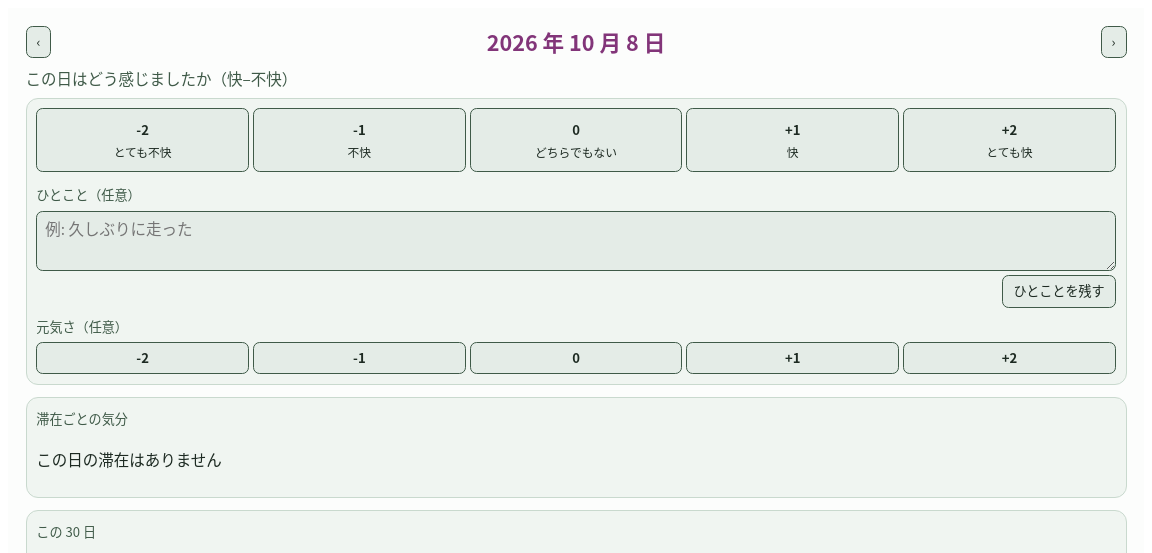
Test: 送れなかったとき › 届かなかった後に「もう一度送る」を押すと、1 回目と同じ原文が送られる
The width and height of the screenshot is (1152, 553).
Click the button with test id "valence-1" at [793, 140], box [686,108,899,172]
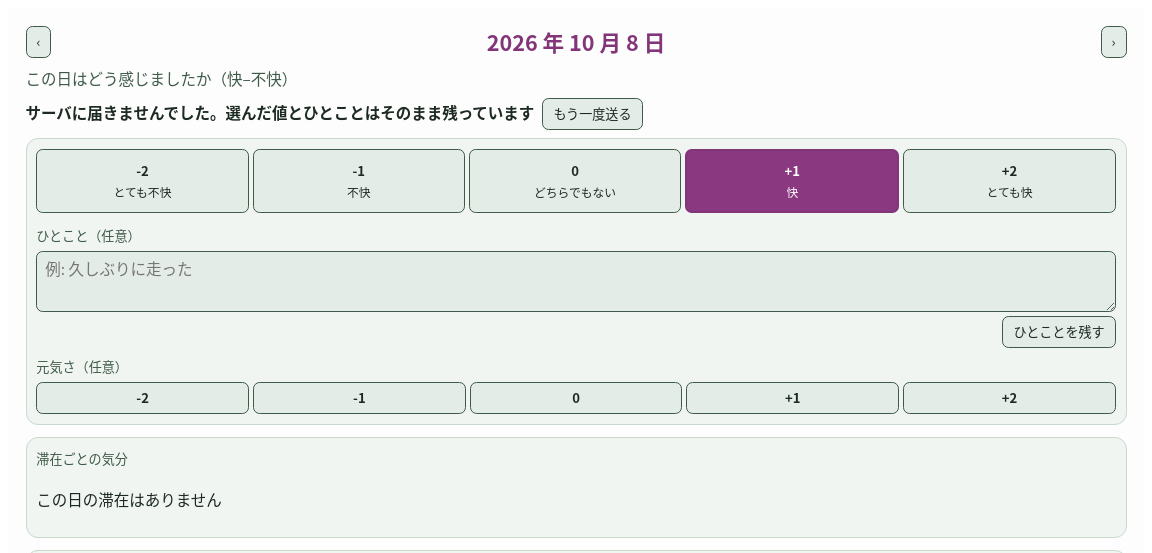
Click the button with test id "feel-resend" at [592, 114], box [542,98,643,130]
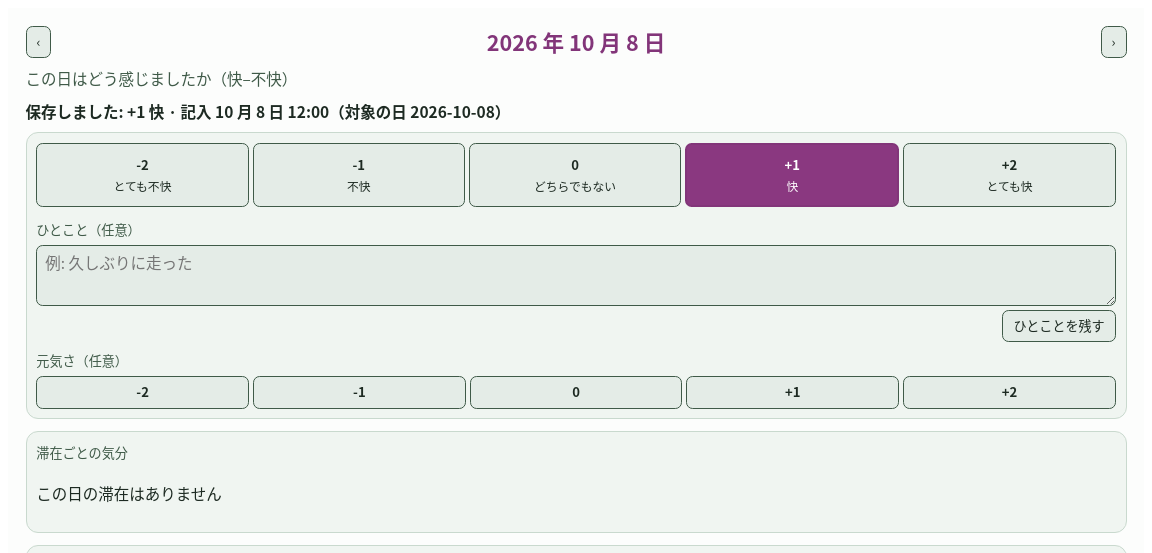
Expected: the text "保存しました: +1 快 · 記入 10 月 8 日 12:00（対象の日 2026-10-08）" is shown, [26,100,510,122]
